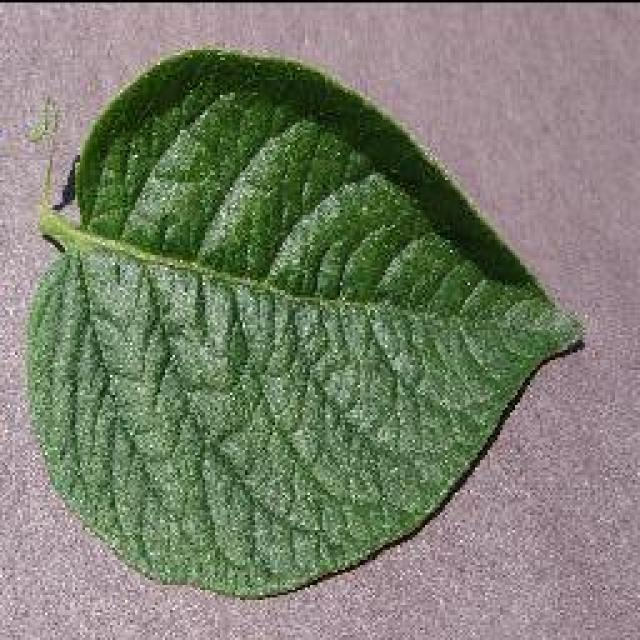Potato___healthy: (25, 41, 585, 604)
